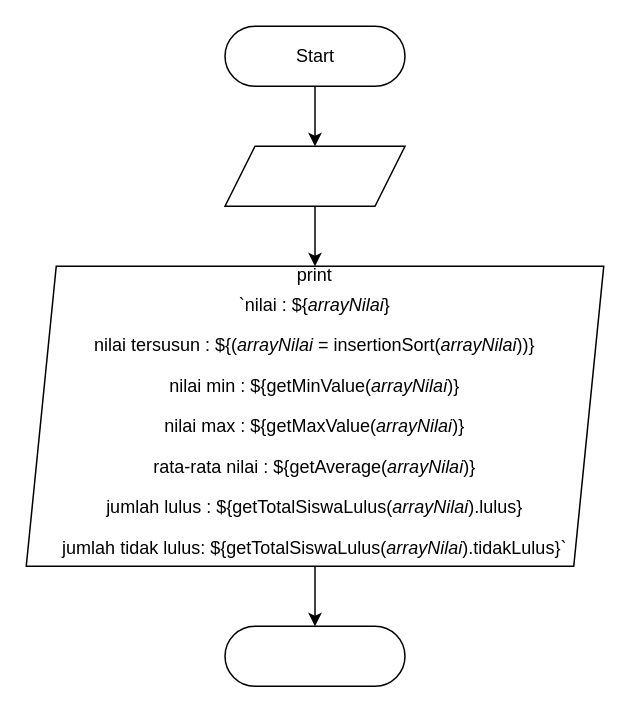
This 630x713 diagram has some shape labels left out. Here are the shapes that lost their labels. From the top down, the box of each, then its label:
(224, 145, 405, 206): input arrayNilai
(224, 625, 405, 686): Stop
